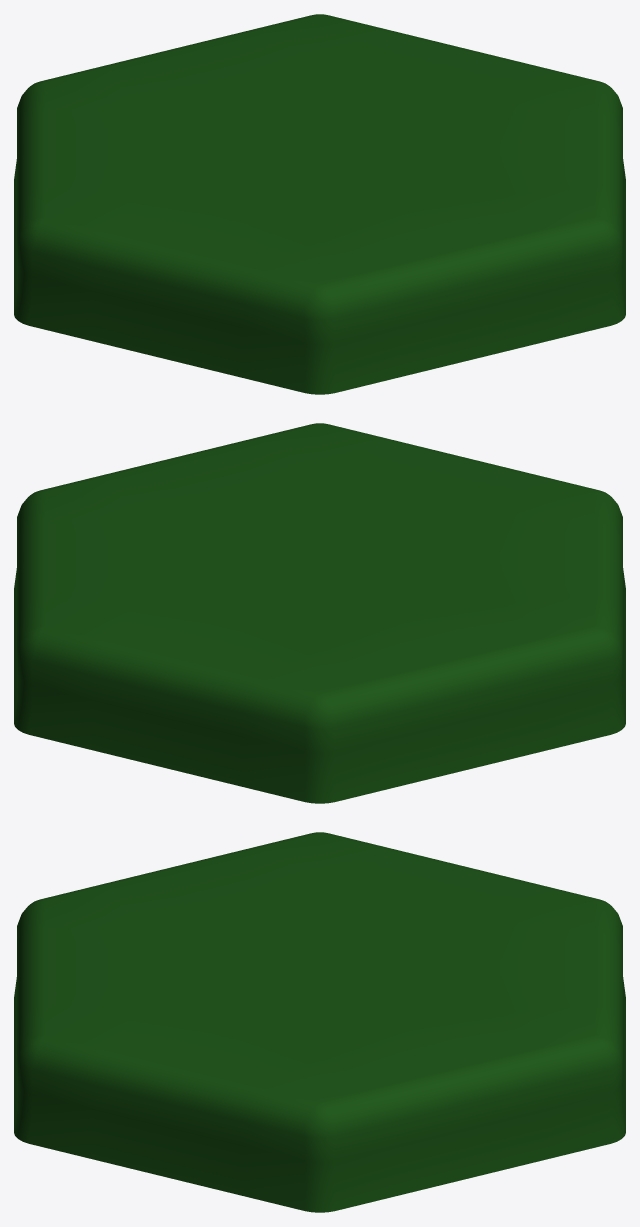
The picture shows the model from 3 angles, top to bottom: view 1: azimuth 30°, elevation 25°; view 2: azimuth 150°, elevation 25°; view 3: azimuth 270°, elevation 25°; orthographic projection.
Visible parts, largest first — view 1: Cylinder; view 2: Cylinder; view 3: Cylinder.
Part boxes in pixels (x1,y1,x2,y2): Cylinder: (14, 14, 625, 394); Cylinder: (14, 423, 625, 803); Cylinder: (14, 832, 625, 1212).
Size of the model in its own units: 207 by 31.94 by 182.
